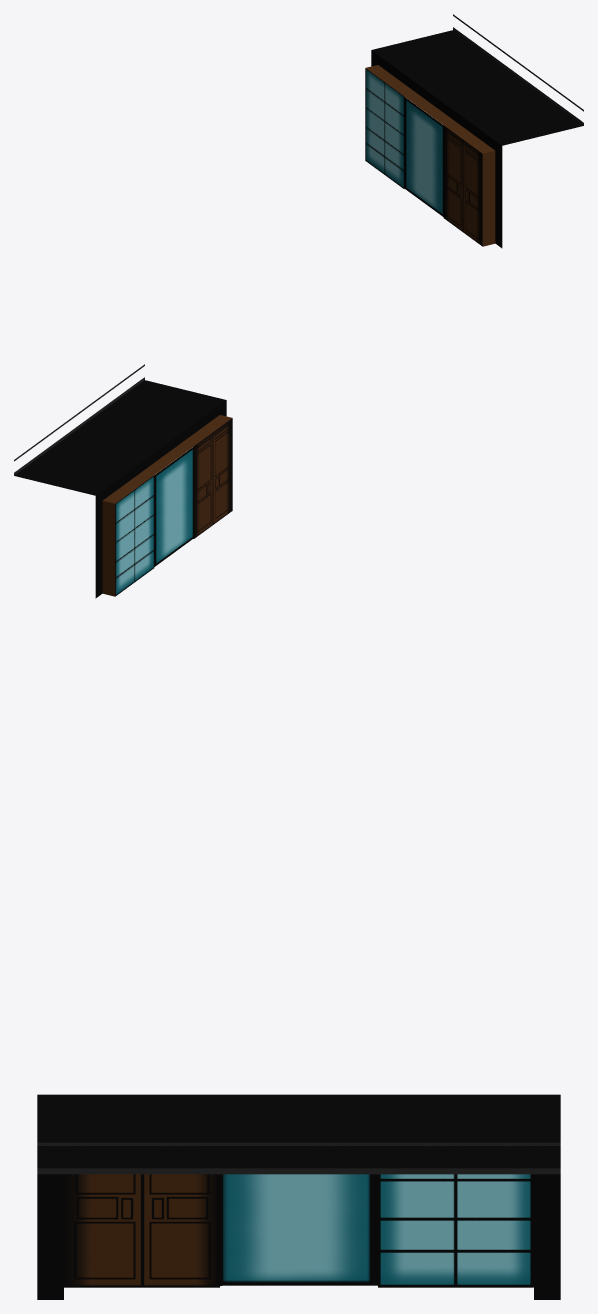
The model's file is Me_ShopModule.fbx.
3 renders of one model, top to bottom at view 1: azimuth 30°, elevation 25°; view 2: azimuth 150°, elevation 25°; view 3: azimuth 270°, elevation 25°, orthographic. The views are drawn at different scales.
Parts seen in each view (by area): view 1: Shop; view 2: Shop; view 3: Shop.
Part boxes in pixels (x1,y1,x2,y2): Shop: (365,14,583,248); Shop: (14,364,232,598); Shop: (37,1094,560,1299).
Bounding box in the file's own units: 775 × 200 × 400.
